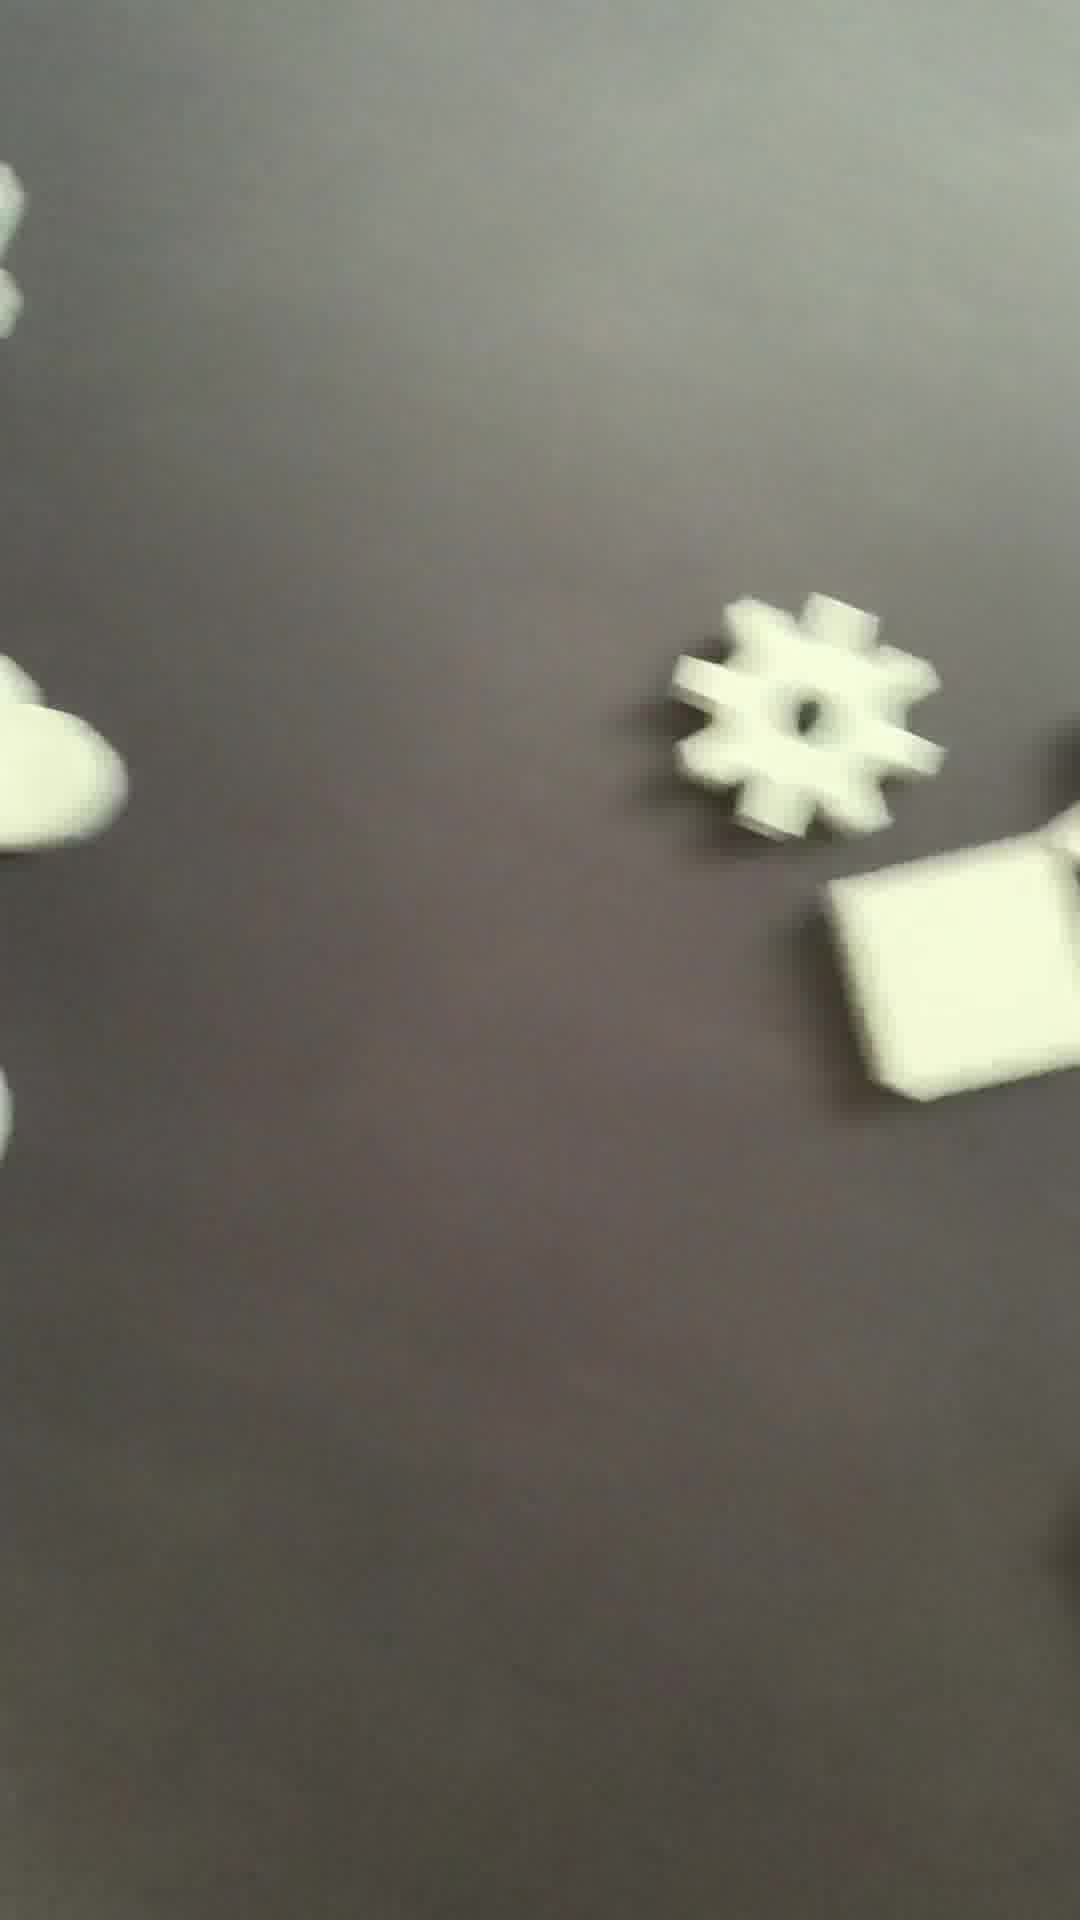Gray gear: (666, 585, 927, 851)
Gray square: (828, 833, 1077, 1112)
